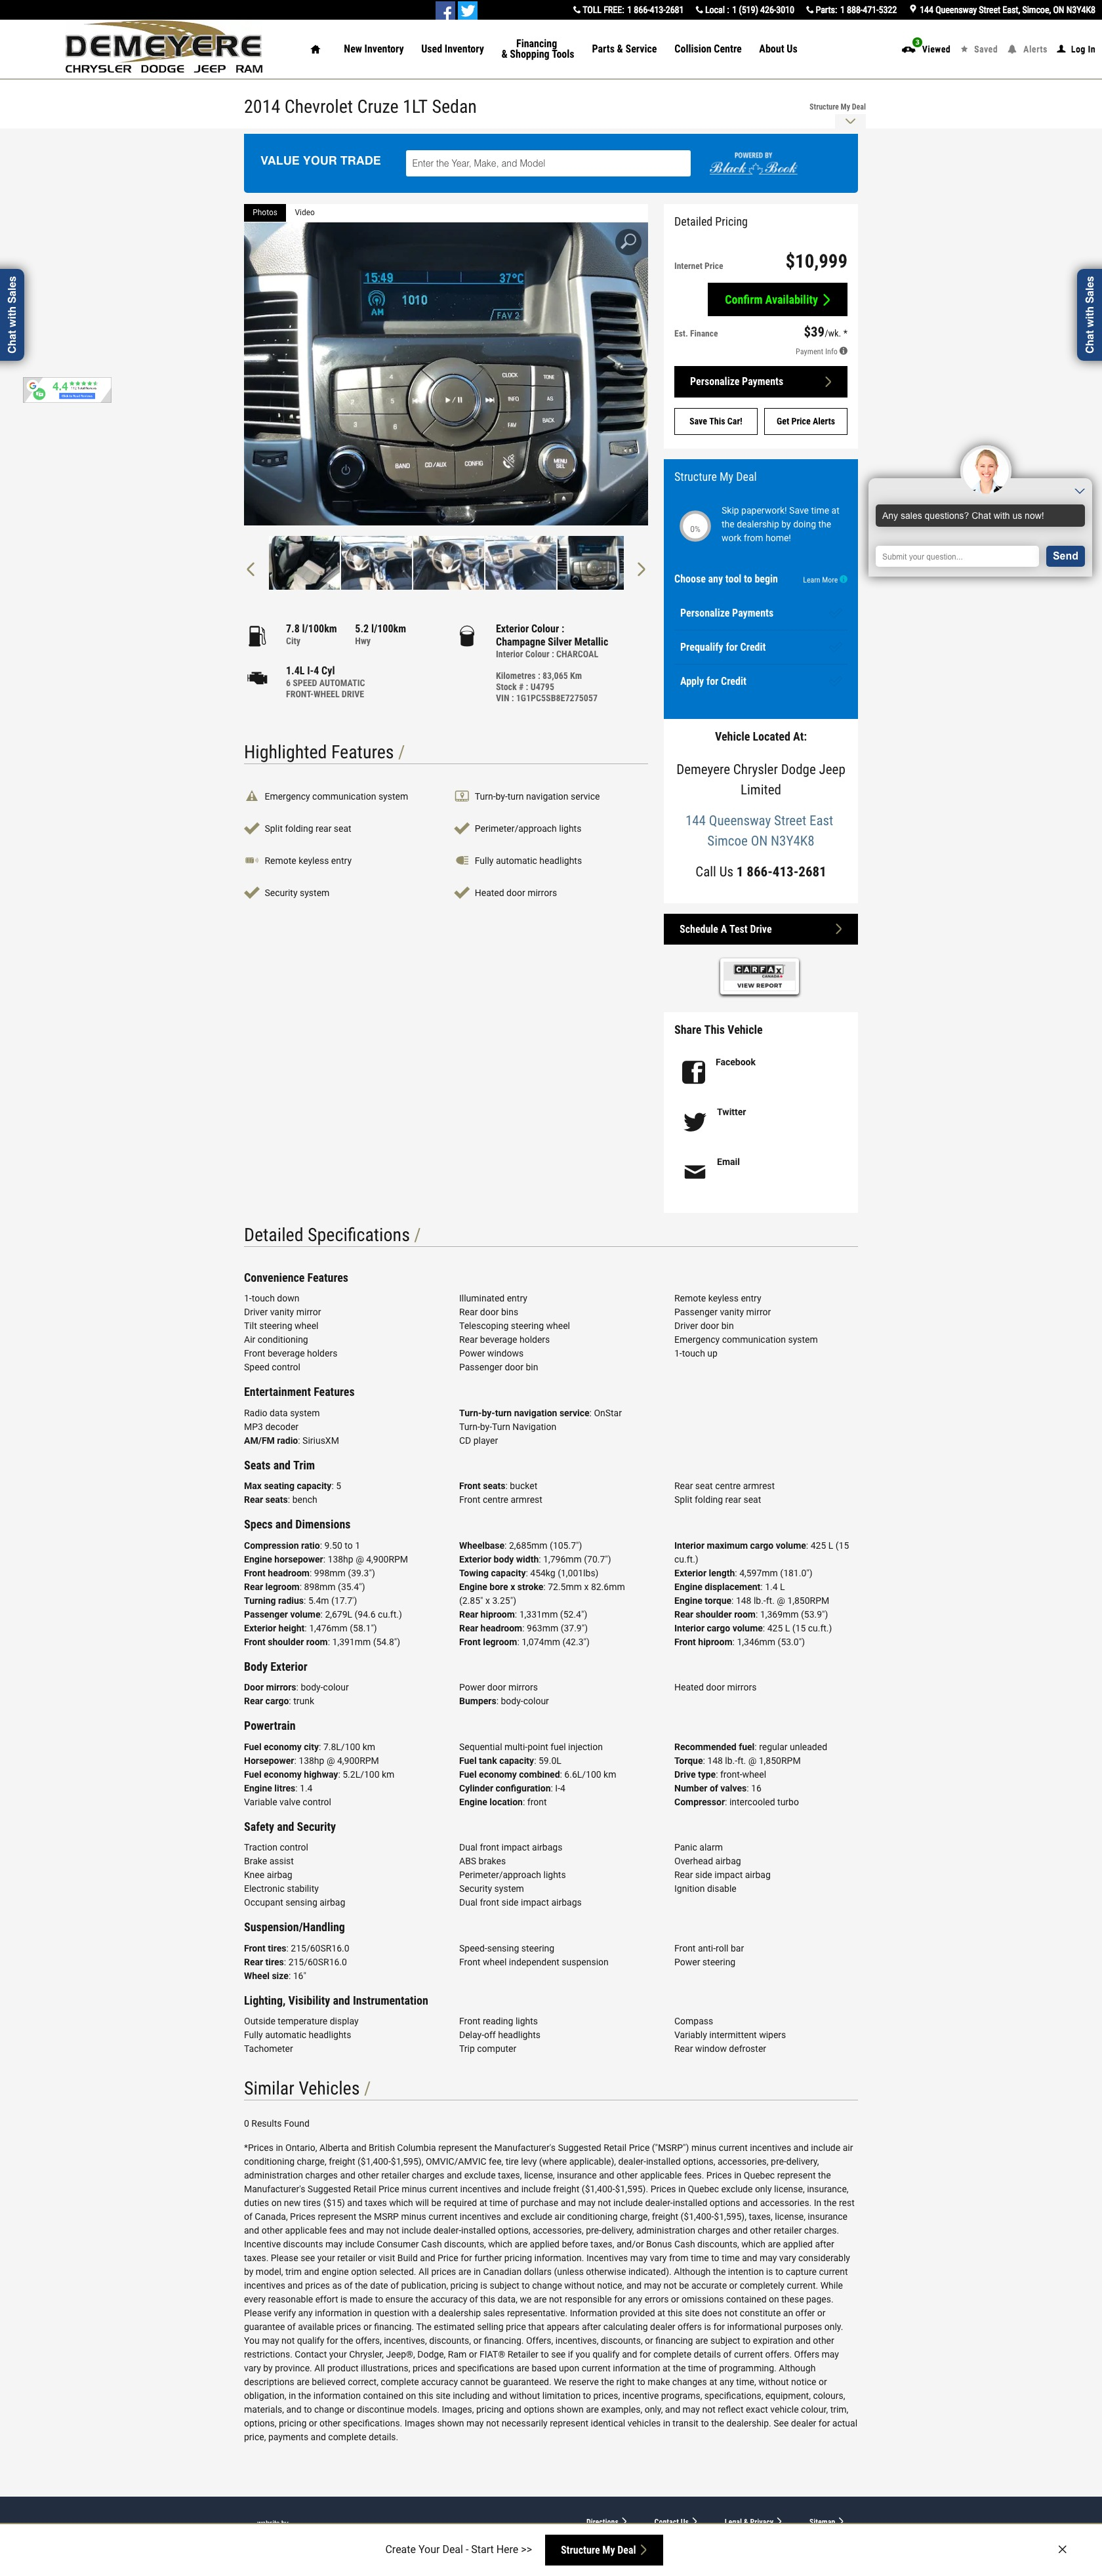car: (639, 563, 645, 577)
